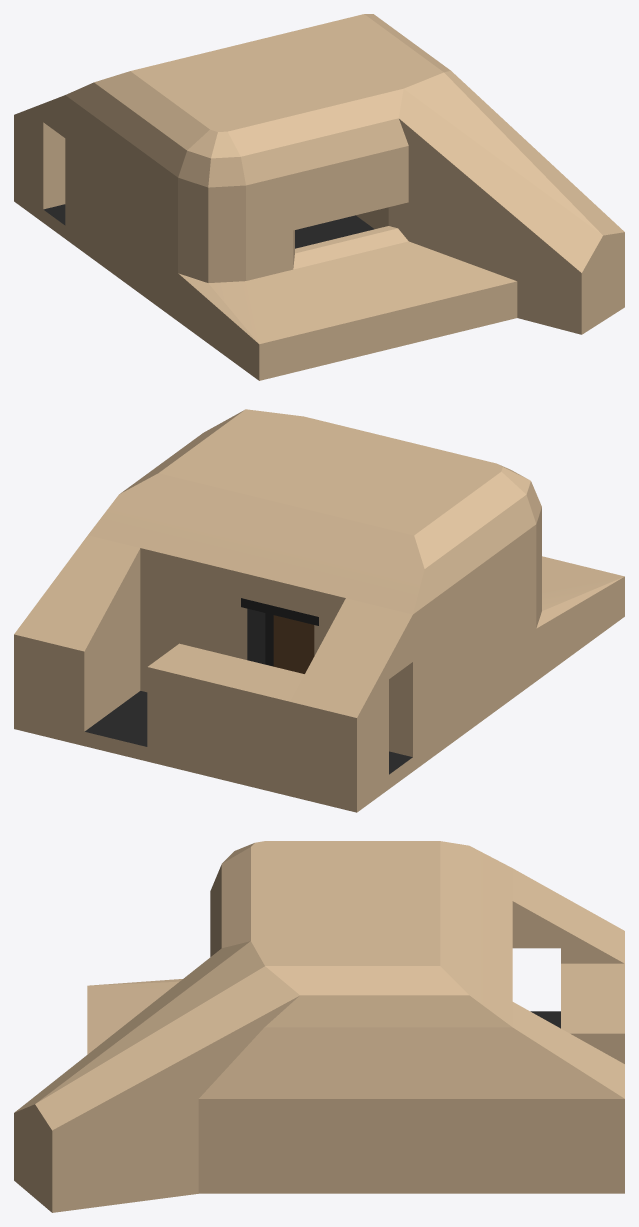
File: ww2_bunker-medium.fbx
3 views of the same model, one above another, from view 1: azimuth 30°, elevation 25°; view 2: azimuth 150°, elevation 25°; view 3: azimuth 270°, elevation 25° (orthographic). The views are drawn at different scales.
Visible parts, largest first — view 1: ww2_bunker_medium; view 2: ww2_bunker_medium; view 3: ww2_bunker_medium.
Part boxes in pixels (<box>): ww2_bunker_medium: <box>14,14,624,380</box>; ww2_bunker_medium: <box>14,409,624,812</box>; ww2_bunker_medium: <box>14,841,624,1212</box>.
Size of the model in its own units: 145 by 72.95 by 200.
